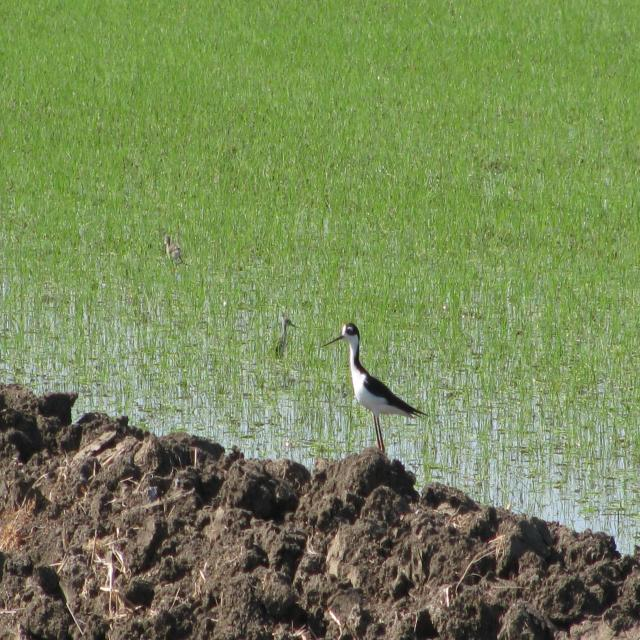bird: (323, 327, 427, 440)
